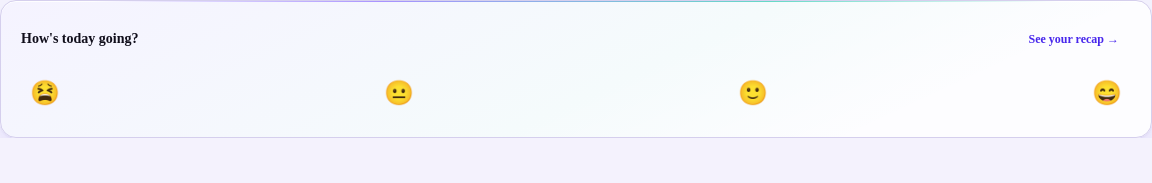
Scenario: MoodCheckInCard › saves today as the tapped mood and marks it pressed
Click the button named "Good" at (753, 93), box [729, 69, 777, 117]
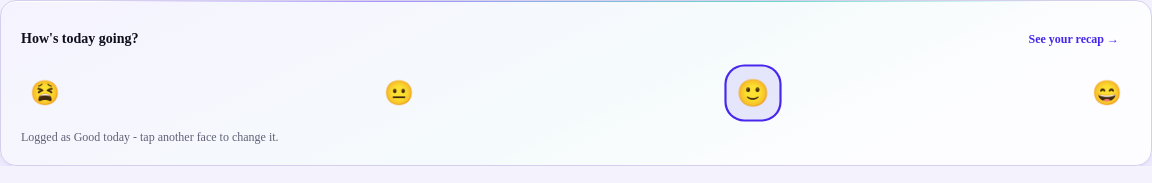
Result: the text "Logged as Good today - tap another face to change it." is shown at [21, 130, 279, 144]
